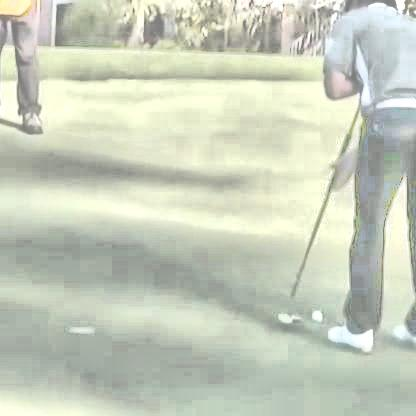golfball: (308, 308, 319, 319)
